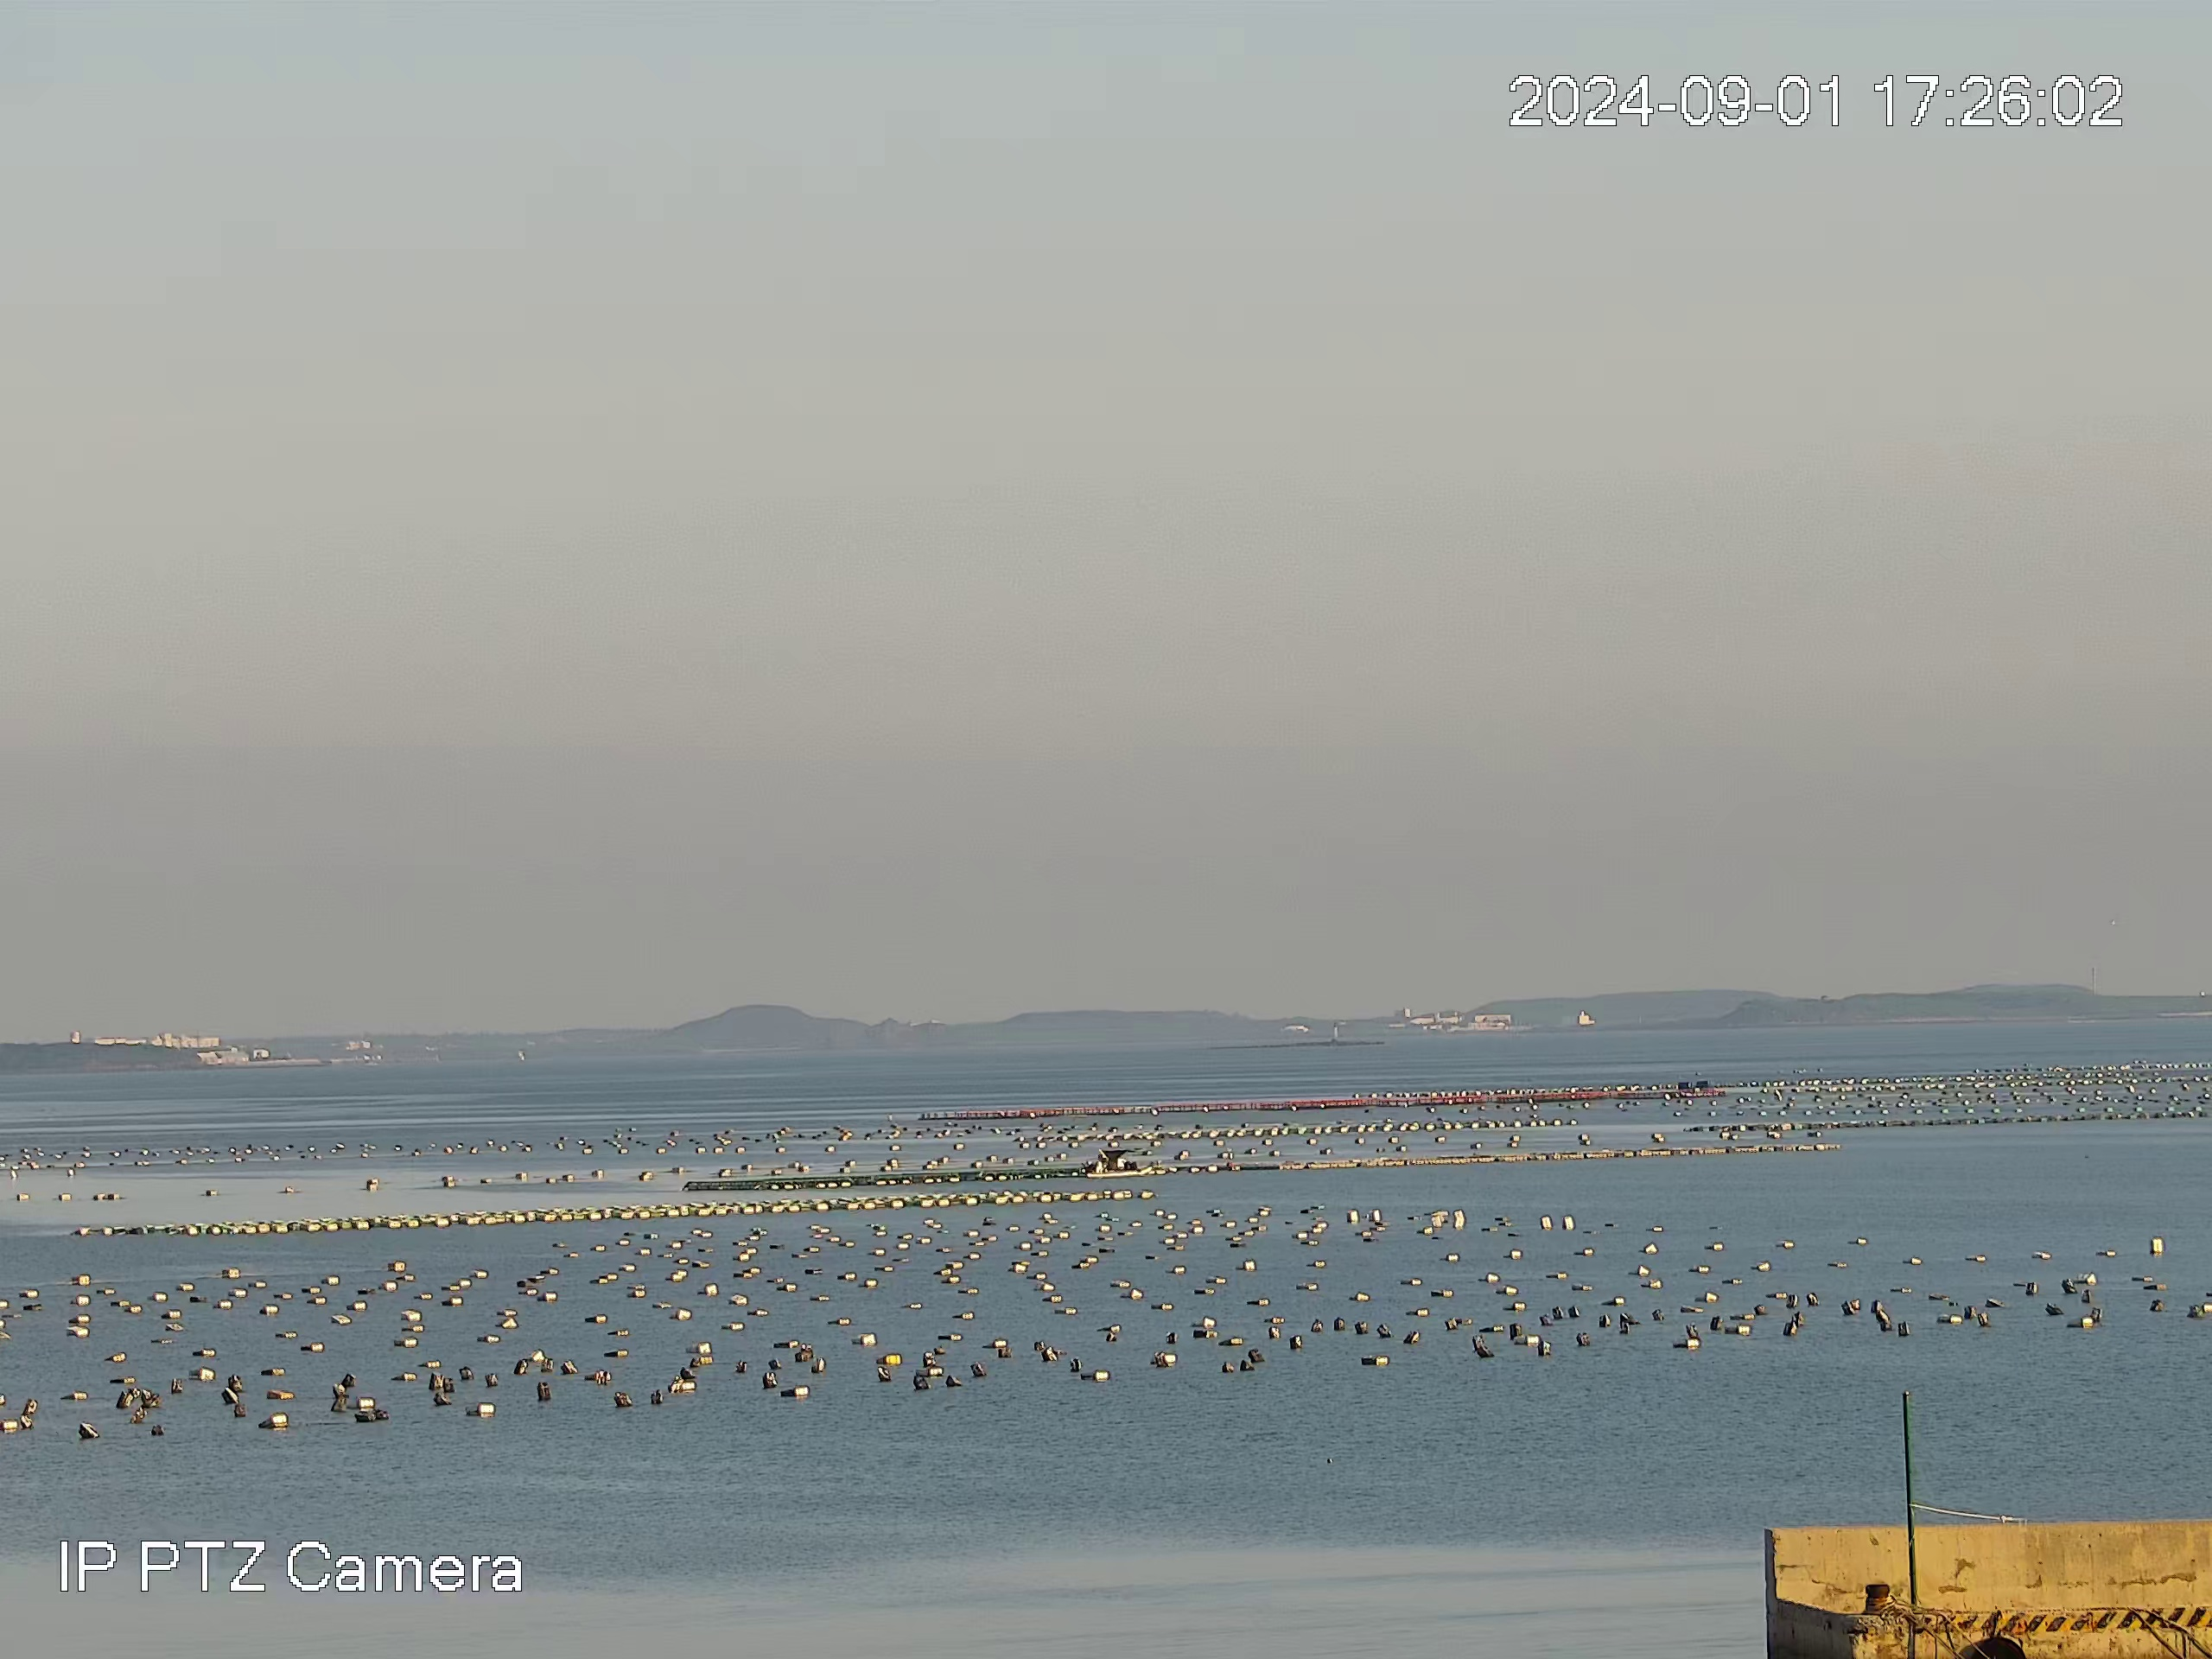boat: (1087, 1147, 1153, 1180)
